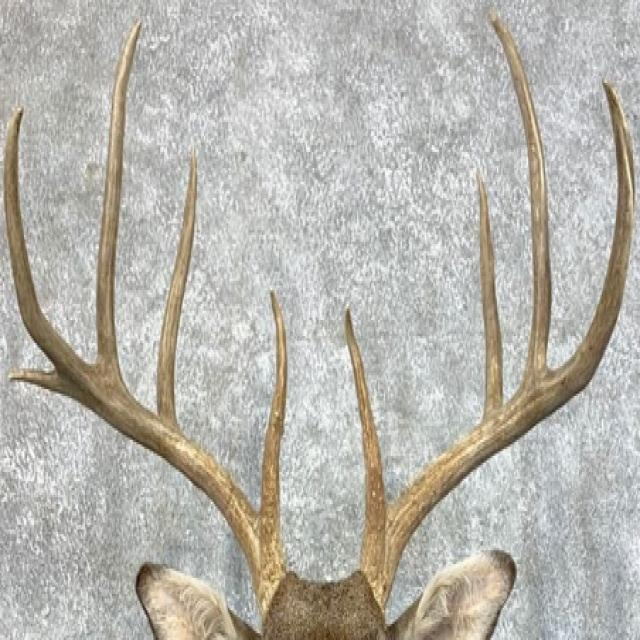E1: (6, 369, 73, 397)
L-F: (361, 74, 636, 610)
L-G1: (344, 306, 386, 533)
L-G2: (478, 173, 504, 419)
L-G3: (490, 14, 553, 383)
R-F: (2, 103, 289, 622)
R-G1: (257, 288, 288, 547)
R-G2: (156, 152, 197, 424)
R-G3: (95, 20, 143, 386)
